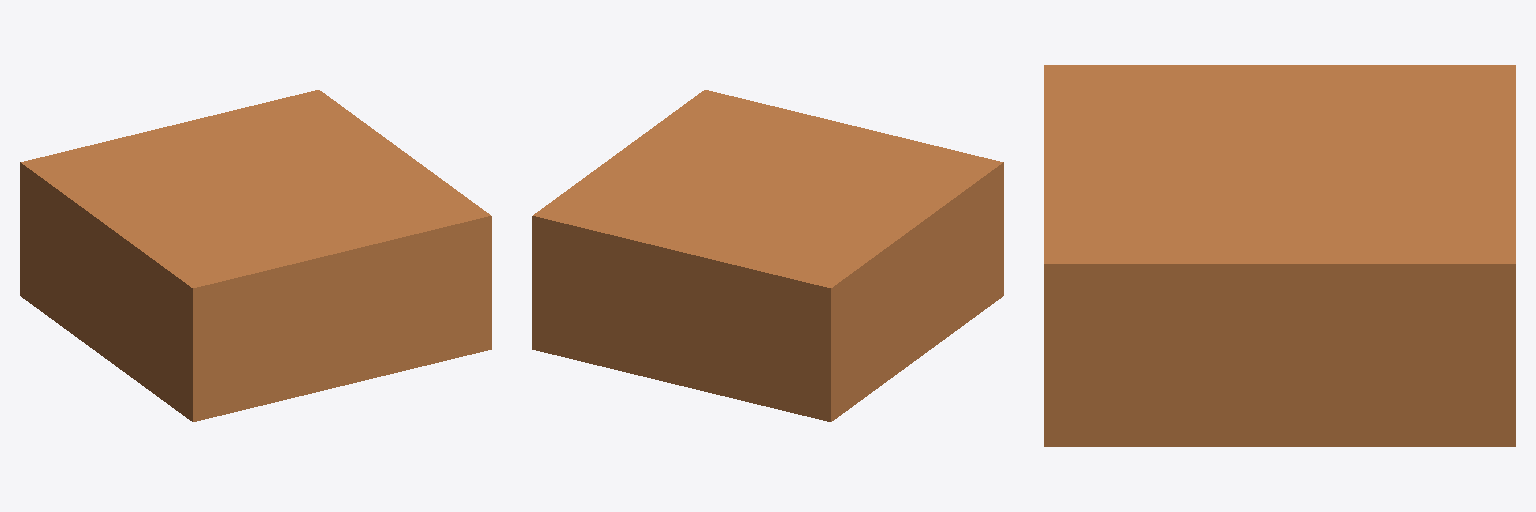
URDF robot description (box):
<?xml version="1.0"?>
<!-- Wider variant of table_narrow.urdf for the UR5 + Tesollo task.

     table_narrow is 0.475 x 0.4 m. The SimToolReal tool pool reaches an
     assembled span of 0.42 m (hammer: 0.30 m handle + 0.12 m head), so a tool
     spawned anywhere in the +-0.1 m reset box can hang over the edge and roll
     off before the policy acts. 0.70 x 0.70 m covers the +-0.1 m box plus the
     worst-case half-span (0.21 m) with margin.

     Same 0.3 m height and 500 kg static mass as table_narrow, so the table top
     stays at reset.table_reset_z + 0.15. -->
<robot name="box">
  <link name="box">
    <visual>
      <material name="wood">
        <color rgba="0.82 0.56 0.35 1.0"/>
      </material>
      <origin xyz="0 0 0"/>
      <geometry>
        <box size="0.7 0.7 0.3"/>
      </geometry>
    </visual>
    <collision>
      <origin xyz="0 0 0"/>
      <geometry>
        <box size="0.7 0.7 0.3"/>
      </geometry>
    </collision>
    <inertial>
      <mass value="500"/>
      <friction value="1.0"/>
      <inertia ixx="1000.0" ixy="0.0" ixz="0.0" iyy="1000.0" iyz="0.0" izz="1000.0"/>
    </inertial>
  </link>
</robot>

--- Render facts (derived) ---
3 views of the same robot in one strip: view 1: azimuth 30°, elevation 25°; view 2: azimuth 150°, elevation 25°; view 3: azimuth 270°, elevation 25° (orthographic).
Model box with 1 links and 0 joints (none), rooted at box, posed every joint at zero.
Links seen in each view (by area): view 1: box; view 2: box; view 3: box.
Boxes of the visible links, left/top/right/bottom form: box: left=20, top=90, right=491, bottom=421; box: left=532, top=90, right=1003, bottom=421; box: left=1044, top=65, right=1515, bottom=446.
Bounding box of the posed robot: 0.7 × 0.7 × 0.3 m (x, y, z).
Geometry: primitives only (box / cylinder / sphere), no mesh files.
